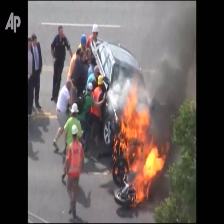fire_h: (119, 84, 170, 206)
fire_l: (113, 137, 118, 153), (112, 155, 117, 163), (114, 166, 118, 174), (124, 166, 127, 173)
